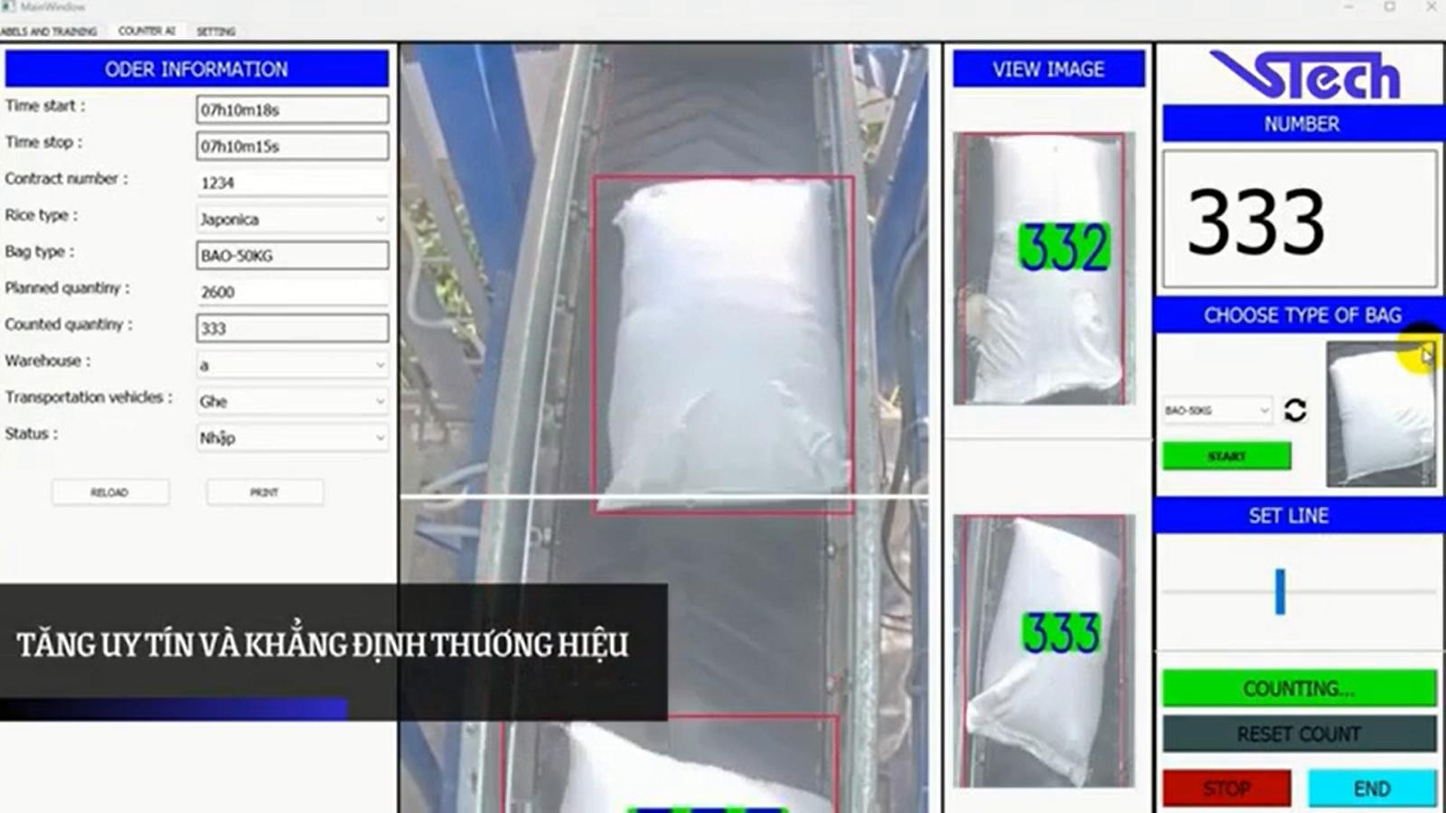rice-bag: (602, 180, 849, 509), (976, 135, 1125, 403), (967, 520, 1117, 784)
